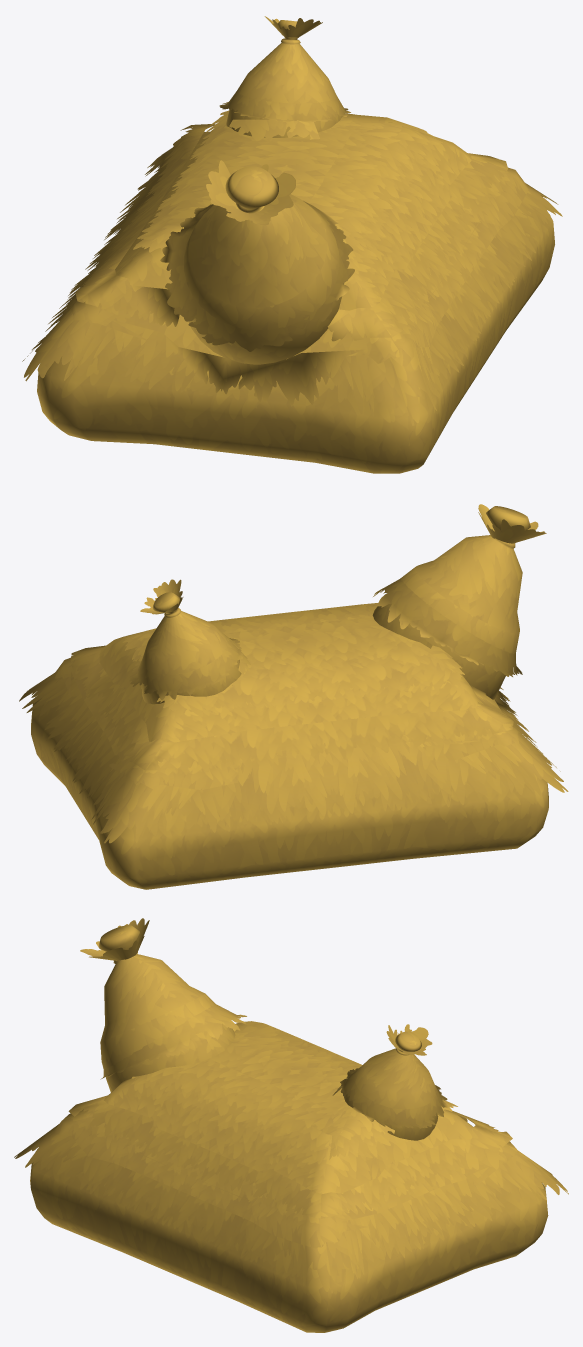
The model's file is Cattac_Straw_Houses_3.fbx.
3 renders of one model, top to bottom at view 1: azimuth 30°, elevation 25°; view 2: azimuth 150°, elevation 25°; view 3: azimuth 270°, elevation 25°, orthographic. The views are drawn at different scales.
Parts seen in each view (by area): view 1: BaseHouseRoofCatEar__1_.008; view 2: BaseHouseRoofCatEar__1_.008; view 3: BaseHouseRoofCatEar__1_.008.
Part boxes in pixels (<box>): BaseHouseRoofCatEar__1_.008: <box>22,16,562,473</box>; BaseHouseRoofCatEar__1_.008: <box>19,504,568,889</box>; BaseHouseRoofCatEar__1_.008: <box>14,918,568,1332</box>.
Size of the model in its own units: 27.43 by 13.82 by 27.38.
